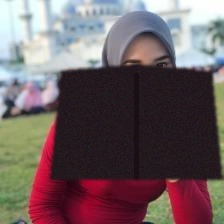Cadar_Niqab: (50, 7, 222, 179)
